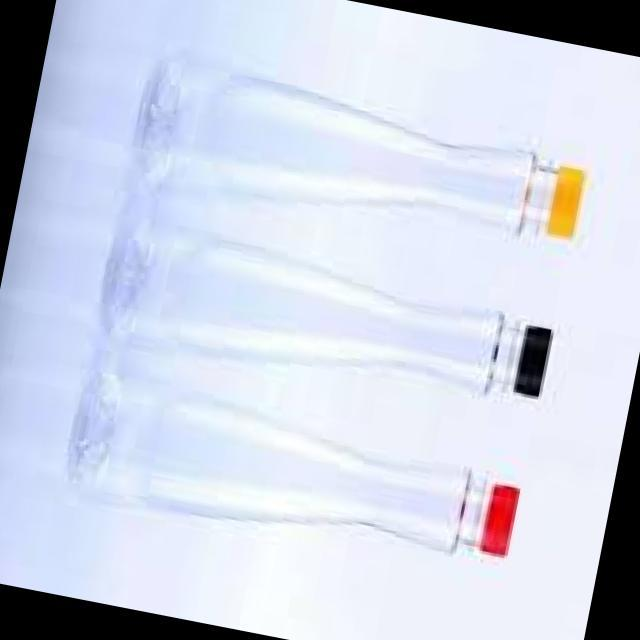good: (56, 350, 543, 612), (119, 36, 594, 276), (85, 205, 566, 421)
